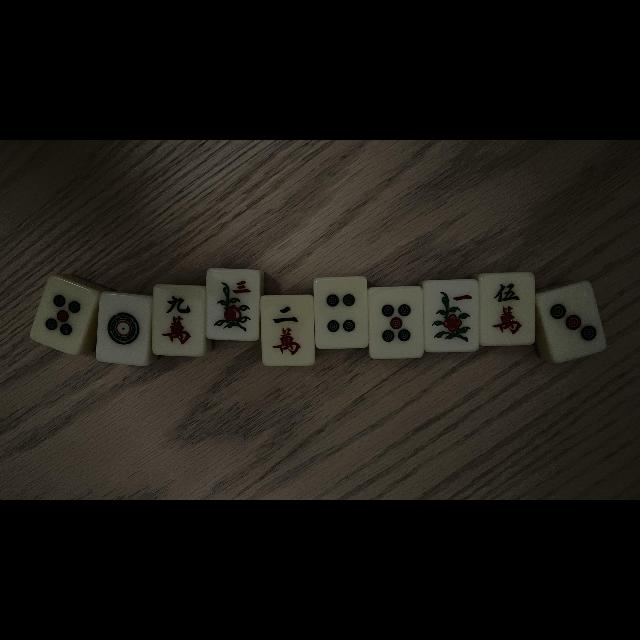c2: (262, 296, 312, 364)
c5: (480, 274, 532, 344)
c9: (154, 286, 202, 354)
d1: (98, 294, 148, 364)
d3: (540, 284, 606, 358)
d4: (314, 278, 366, 346)
d5: (34, 278, 90, 349), (371, 289, 422, 357)
s1-s: (426, 283, 476, 351)
s3-s: (208, 272, 256, 338)
